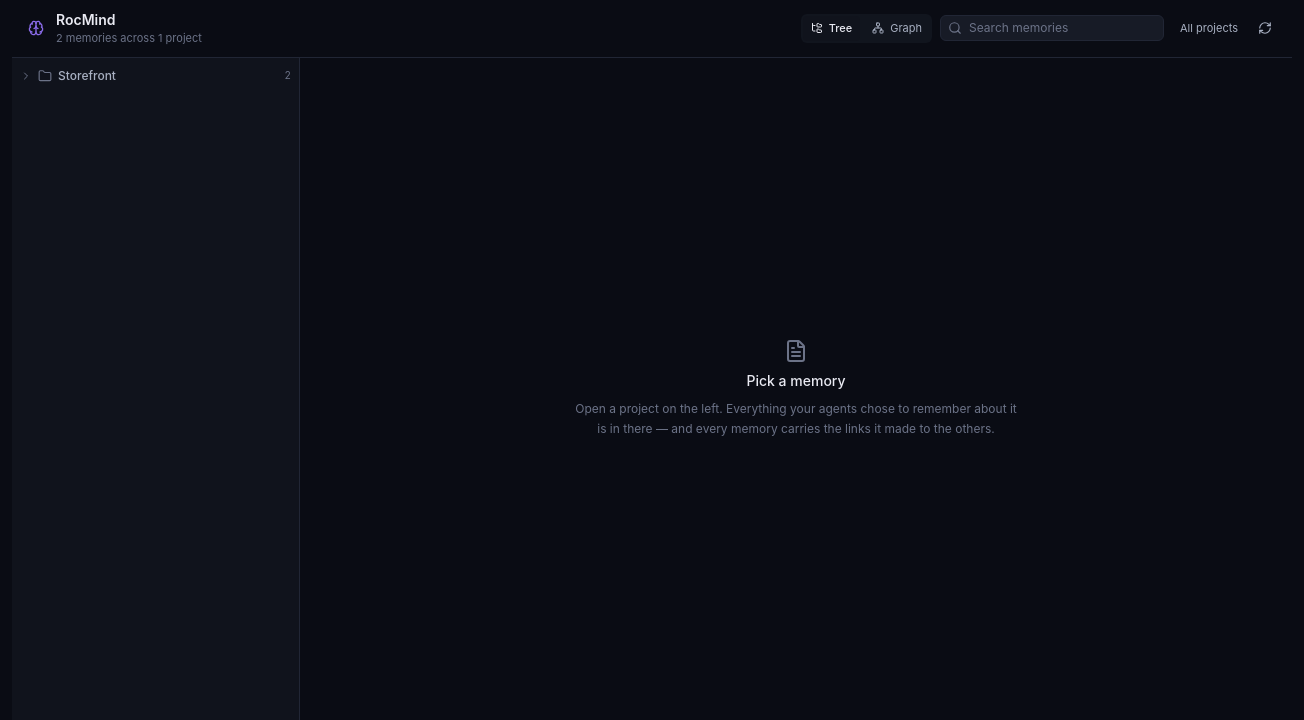
the graph › does not schedule frames while the tree tab is showing
The image size is (1304, 720).
Click the tab "Graph" at (897, 28), box [864, 16, 930, 40]
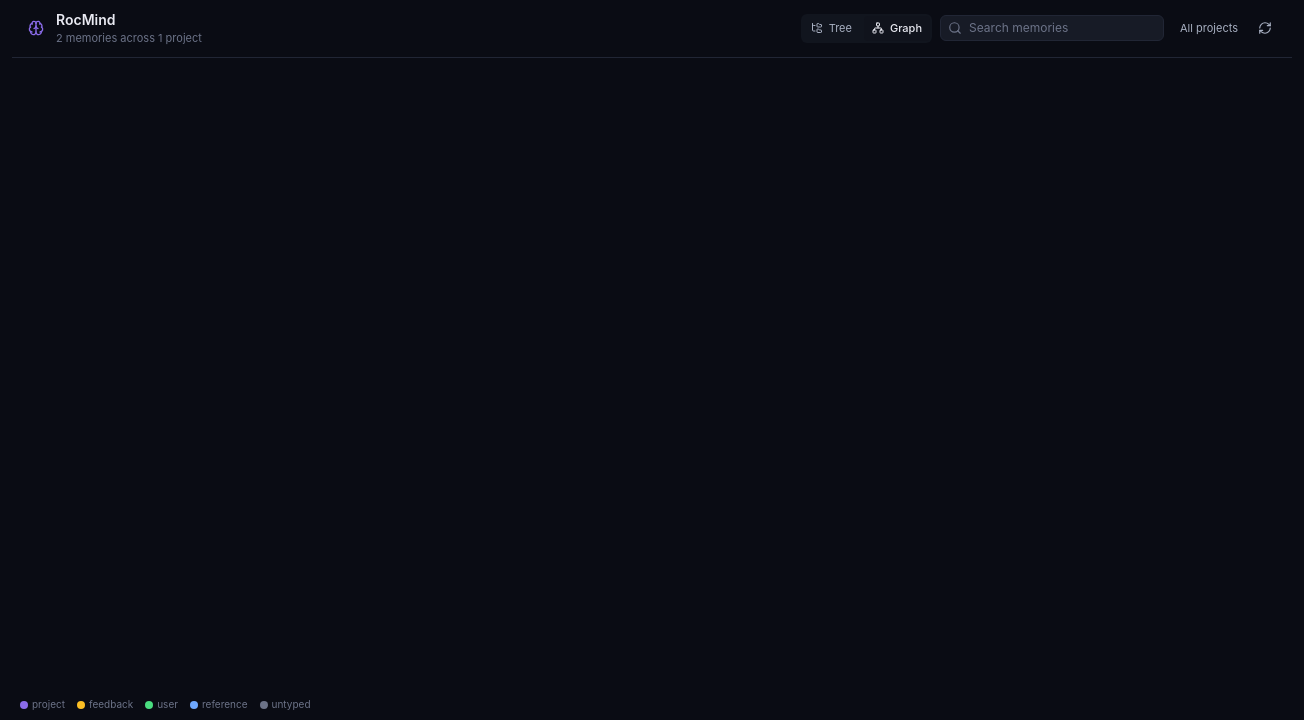
expect the picture is shown: met
Click the tab "Tree" at (831, 28), box [803, 16, 860, 40]
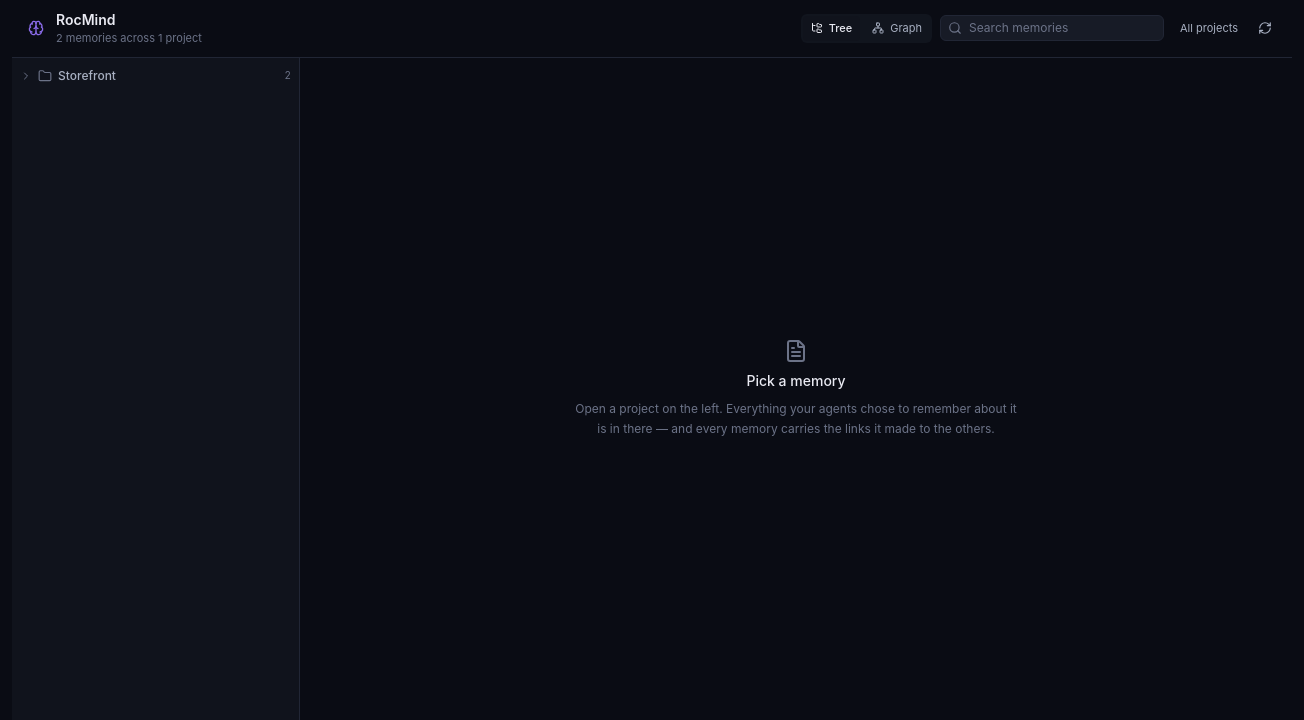
expect the picture is gone: met
